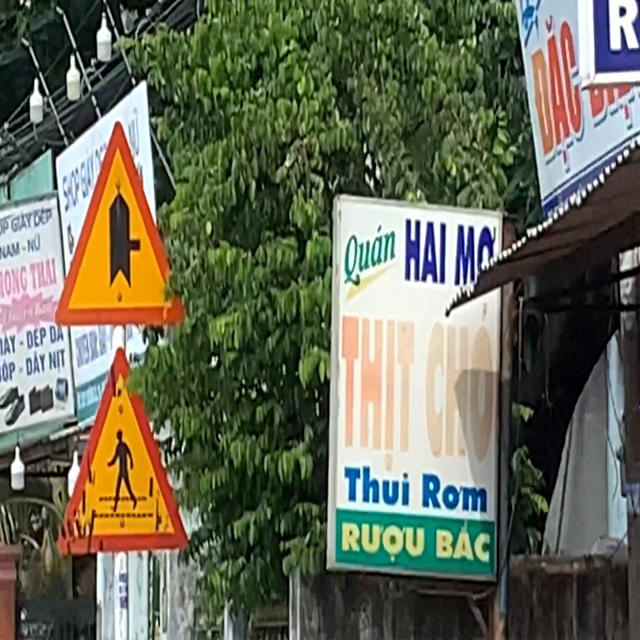W.207b: (52, 117, 186, 327)
W.224: (56, 344, 190, 554)
